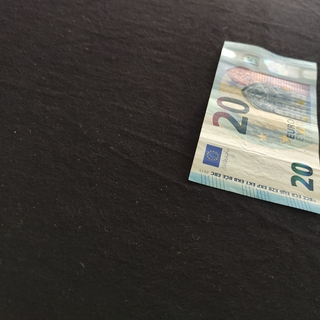20EUROFront: (188, 40, 320, 215)
